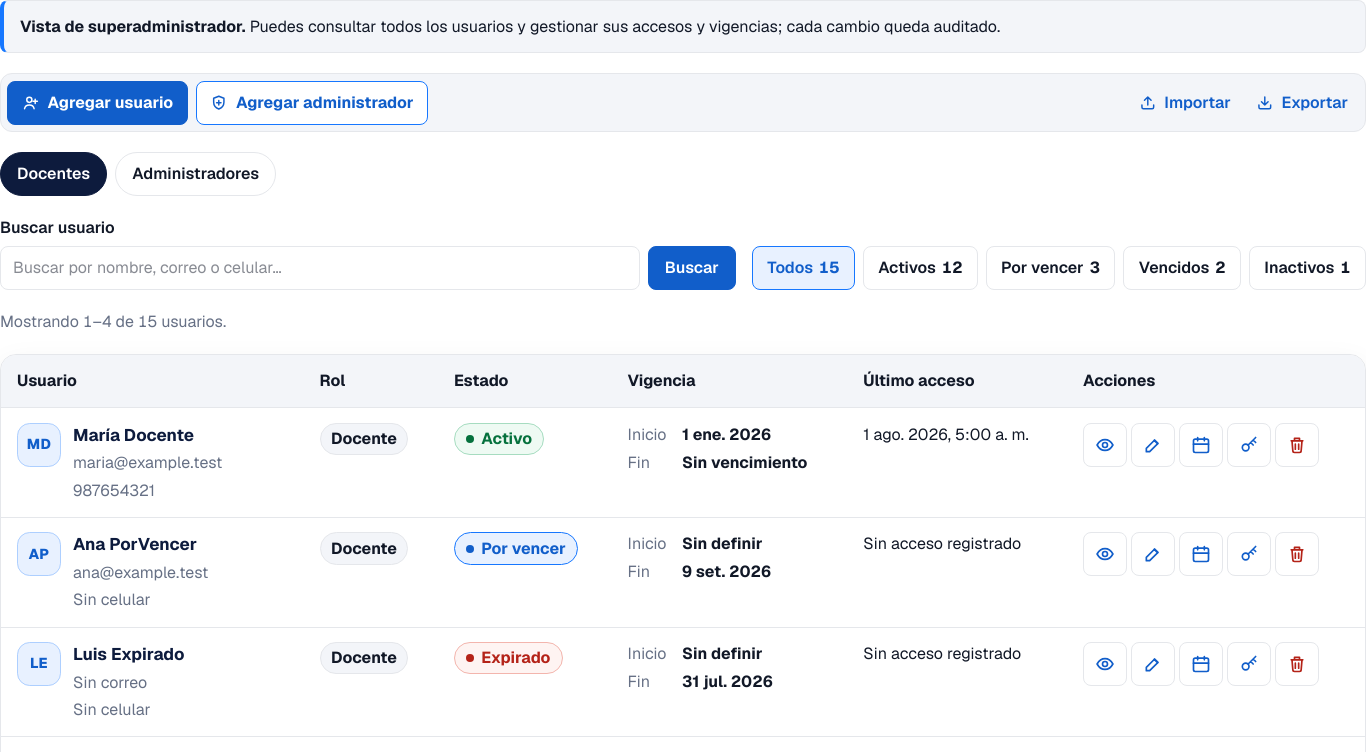
Scenario: UsersManager › la suspensión se confirma en su propia ventana con tono de peligro
Click the button named "Suspender acceso" in the row of "MD". click: (1297, 445)
box: [1275,423,1319,467]
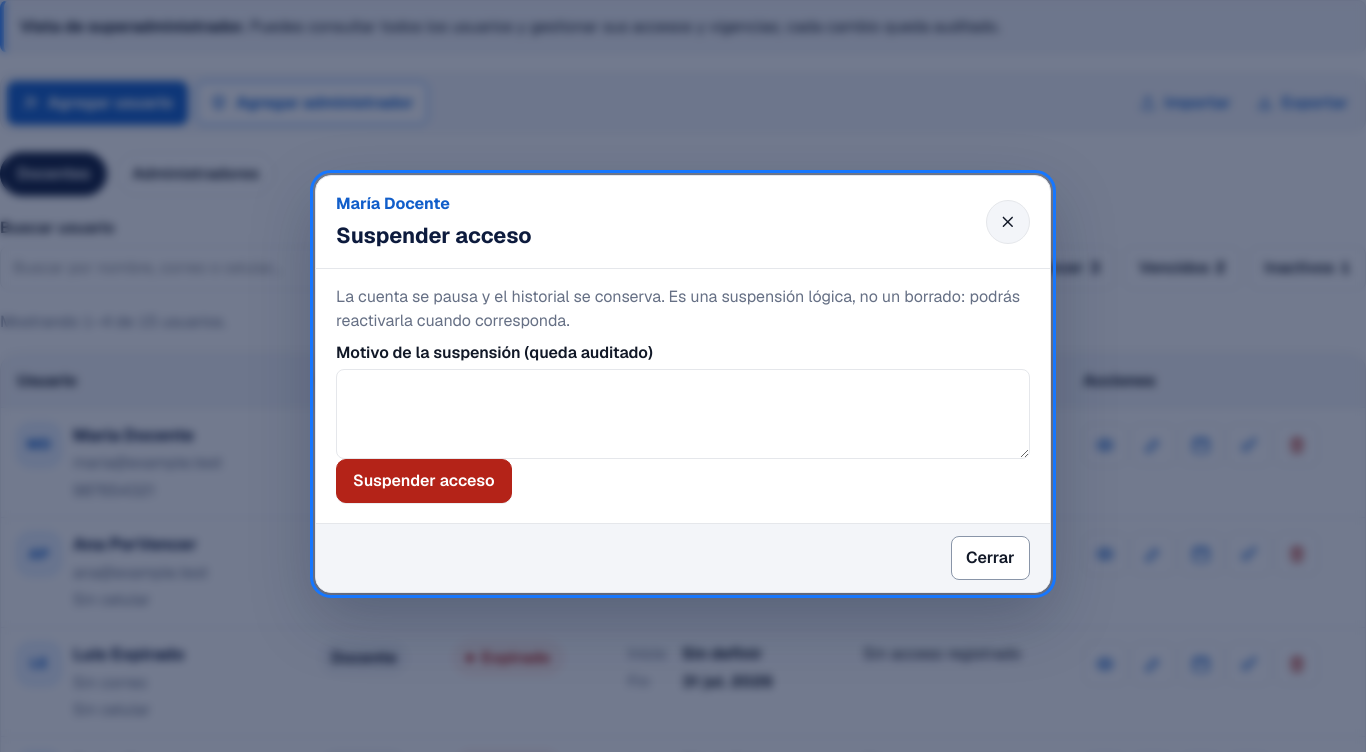
Expected: the text "no un borrado" is shown, [336,286,1020,331]
